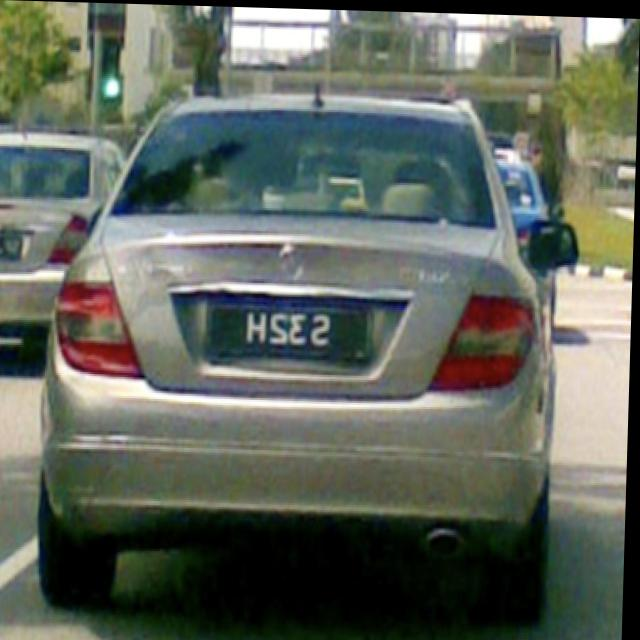licence: (200, 294, 374, 367)
